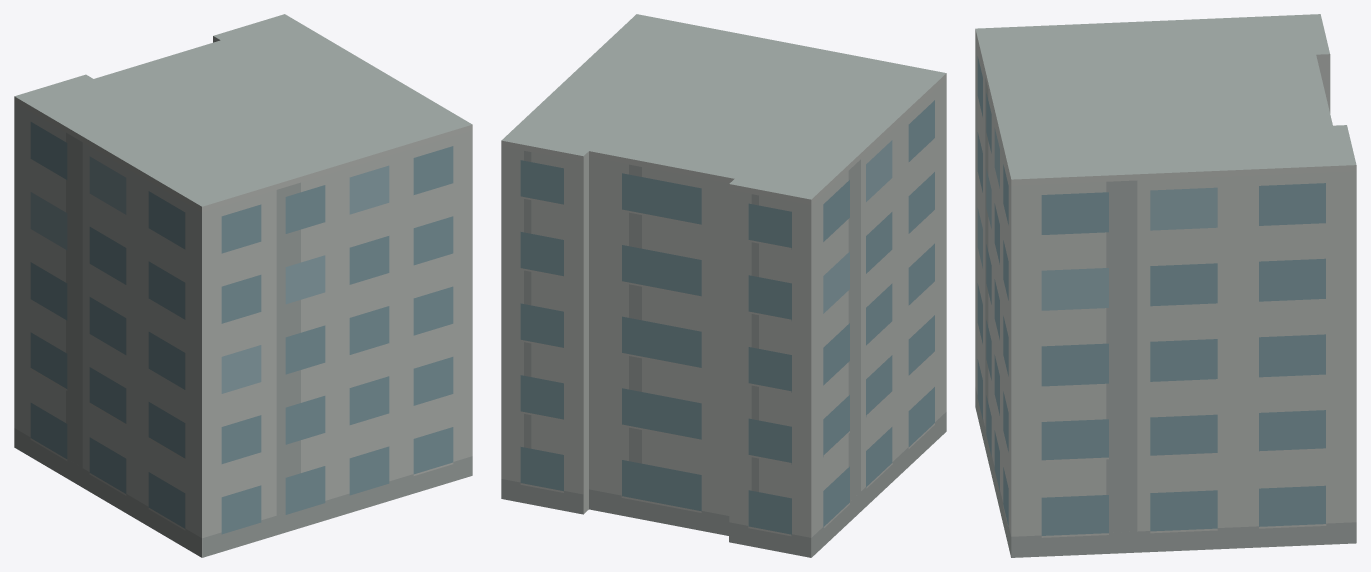
File: survey-upis-32616123.glb
The picture shows the model from 3 angles, left to right: view 1: azimuth 30°, elevation 25°; view 2: azimuth 150°, elevation 25°; view 3: azimuth 270°, elevation 25°; orthographic projection. The views are drawn at different scales.
Parts seen in each view (by area): view 1: survey-upis-32616123.tmp; view 2: survey-upis-32616123.tmp; view 3: survey-upis-32616123.tmp.
Part boxes in pixels (x1,y1,x2,y2): survey-upis-32616123.tmp: (14, 14, 472, 557); survey-upis-32616123.tmp: (501, 14, 946, 557); survey-upis-32616123.tmp: (975, 14, 1356, 557).
Bounding box in the file's own units: 13.95 × 14.85 × 13.57.
